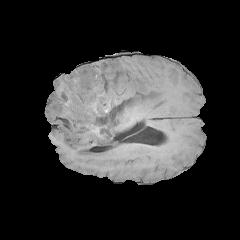glioma: (46, 59, 168, 162)
